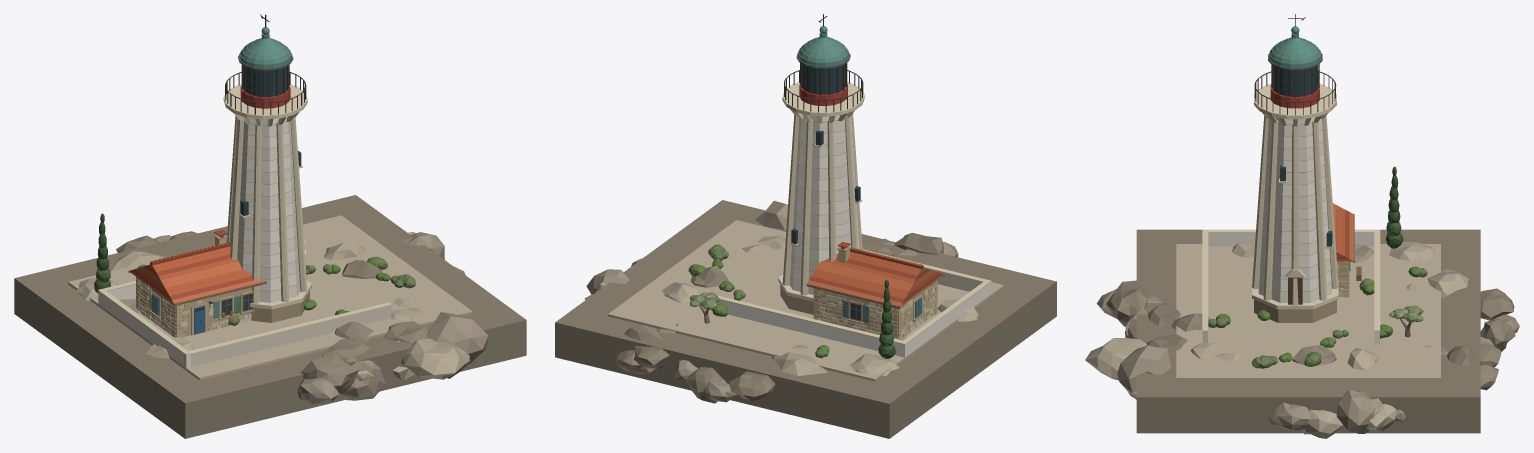
Rendered from deniz-feneri.glb.
The picture shows the model from 3 angles, left to right: view 1: azimuth 30°, elevation 25°; view 2: azimuth 150°, elevation 25°; view 3: azimuth 270°, elevation 25°; orthographic projection. The views are drawn at different scales.
Visible parts, largest first — view 1: kaya3, zemin, tas4, kaya2, kaya, badana2, beyaz, badana_kir, kiremit1, harc, cam, kiremit3 (+11 smaller); view 2: kaya3, zemin, tas4, badana, badana2, beyaz, kaya2, kaya, kiremit1, kiremit3, cam, tas2 (+10 smaller); view 3: kaya3, zemin, tas4, kaya2, kaya, badana2, beyaz, bakir, cam, demir, tas_koyu, zeytin3 (+6 smaller).
Part boxes in pixels (x1,y1,x2,y2): kaya3: (14,195,526,438); zemin: (68,215,472,380); tas4: (98,84,391,355); kaya2: (75,231,469,380); kaya: (119,232,488,404); badana2: (229,118,300,302); beyaz: (230,116,299,290); badana_kir: (184,306,391,367); kiremit1: (134,246,252,295); harc: (145,121,299,336); cam: (195,66,301,315); kiremit3: (129,261,266,304); kaya3: (555,200,1056,438); zemin: (608,220,1003,381); tas4: (718,82,991,344); badana: (704,282,991,357); badana2: (789,115,859,294); beyaz: (790,113,859,280); kaya2: (584,235,979,376); kaya: (586,200,958,402); kiremit1: (811,251,939,298); kiremit3: (807,261,944,306); cam: (791,64,860,320); tas2: (813,249,937,338); kaya3: (1106,229,1515,433); zemin: (1176,244,1440,380); tas4: (1202,83,1380,331); kaya2: (1085,241,1468,438); kaya: (1096,243,1519,433); badana2: (1258,119,1331,302); beyaz: (1259,117,1331,290); bakir: (1269,26,1321,67); cam: (1272,65,1332,246); demir: (1254,14,1336,115); tas_koyu: (1254,261,1350,322); zeytin3: (1208,268,1427,368).
Size of the model in its own units: 32.51 by 28.29 by 32.89.
